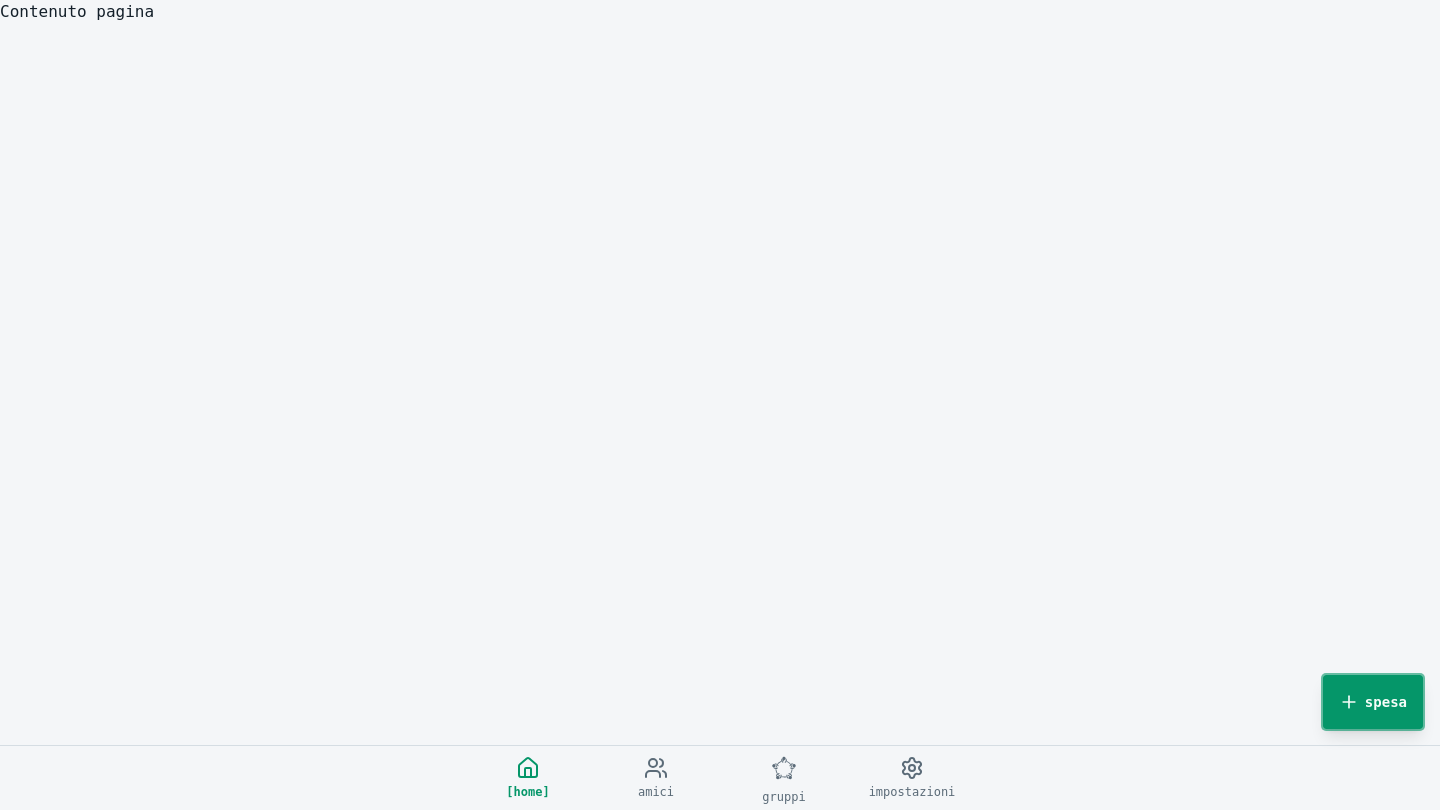
Test: AppLayout — FAB contestuale › su / apre la nuova spesa con scelta del contesto
The image size is (1440, 810).
Click the button with aria-label "Nuova spesa" at (1373, 702), box [1322,674,1424,730]
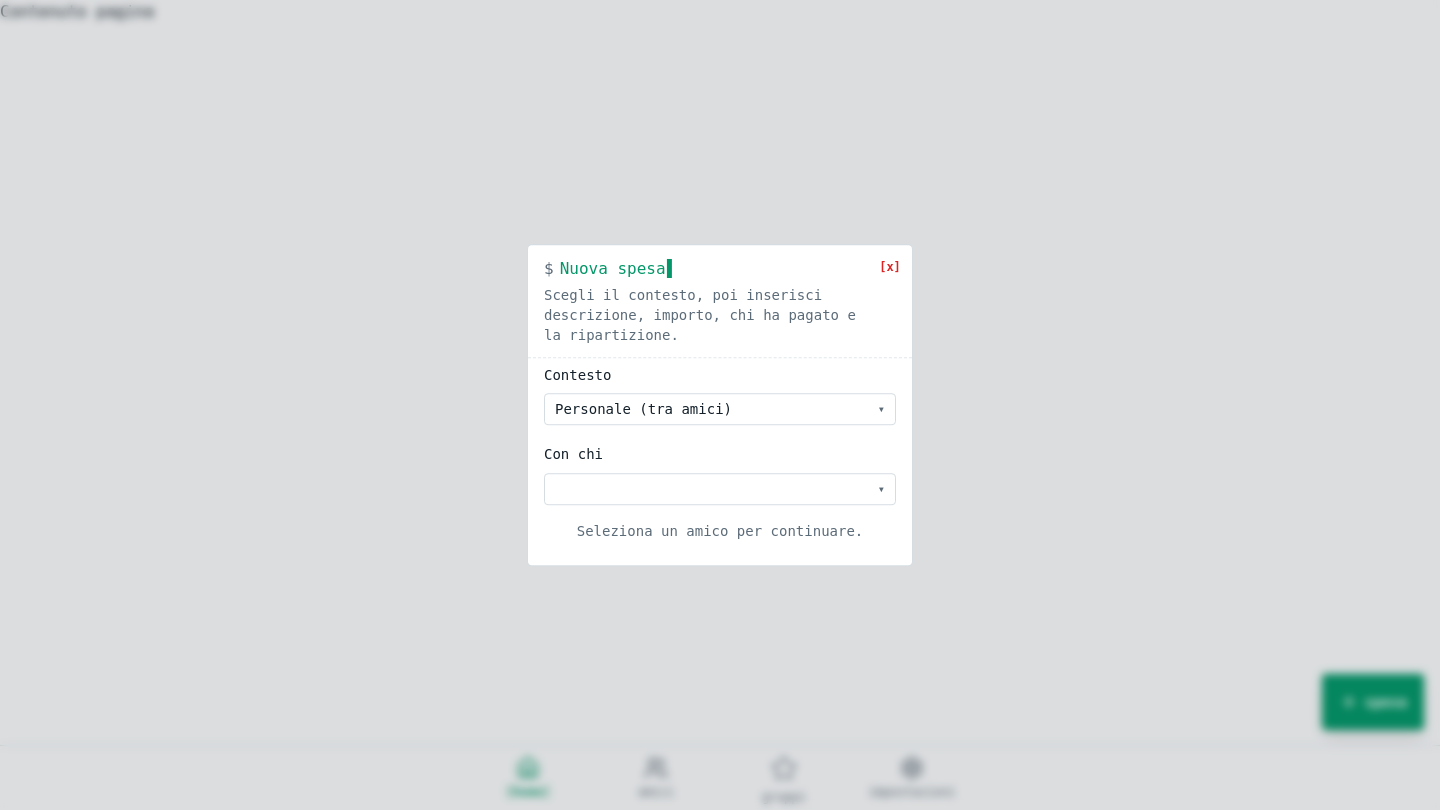
Expected: the dropdown named "Contesto" is shown, [544,394,896,426]
